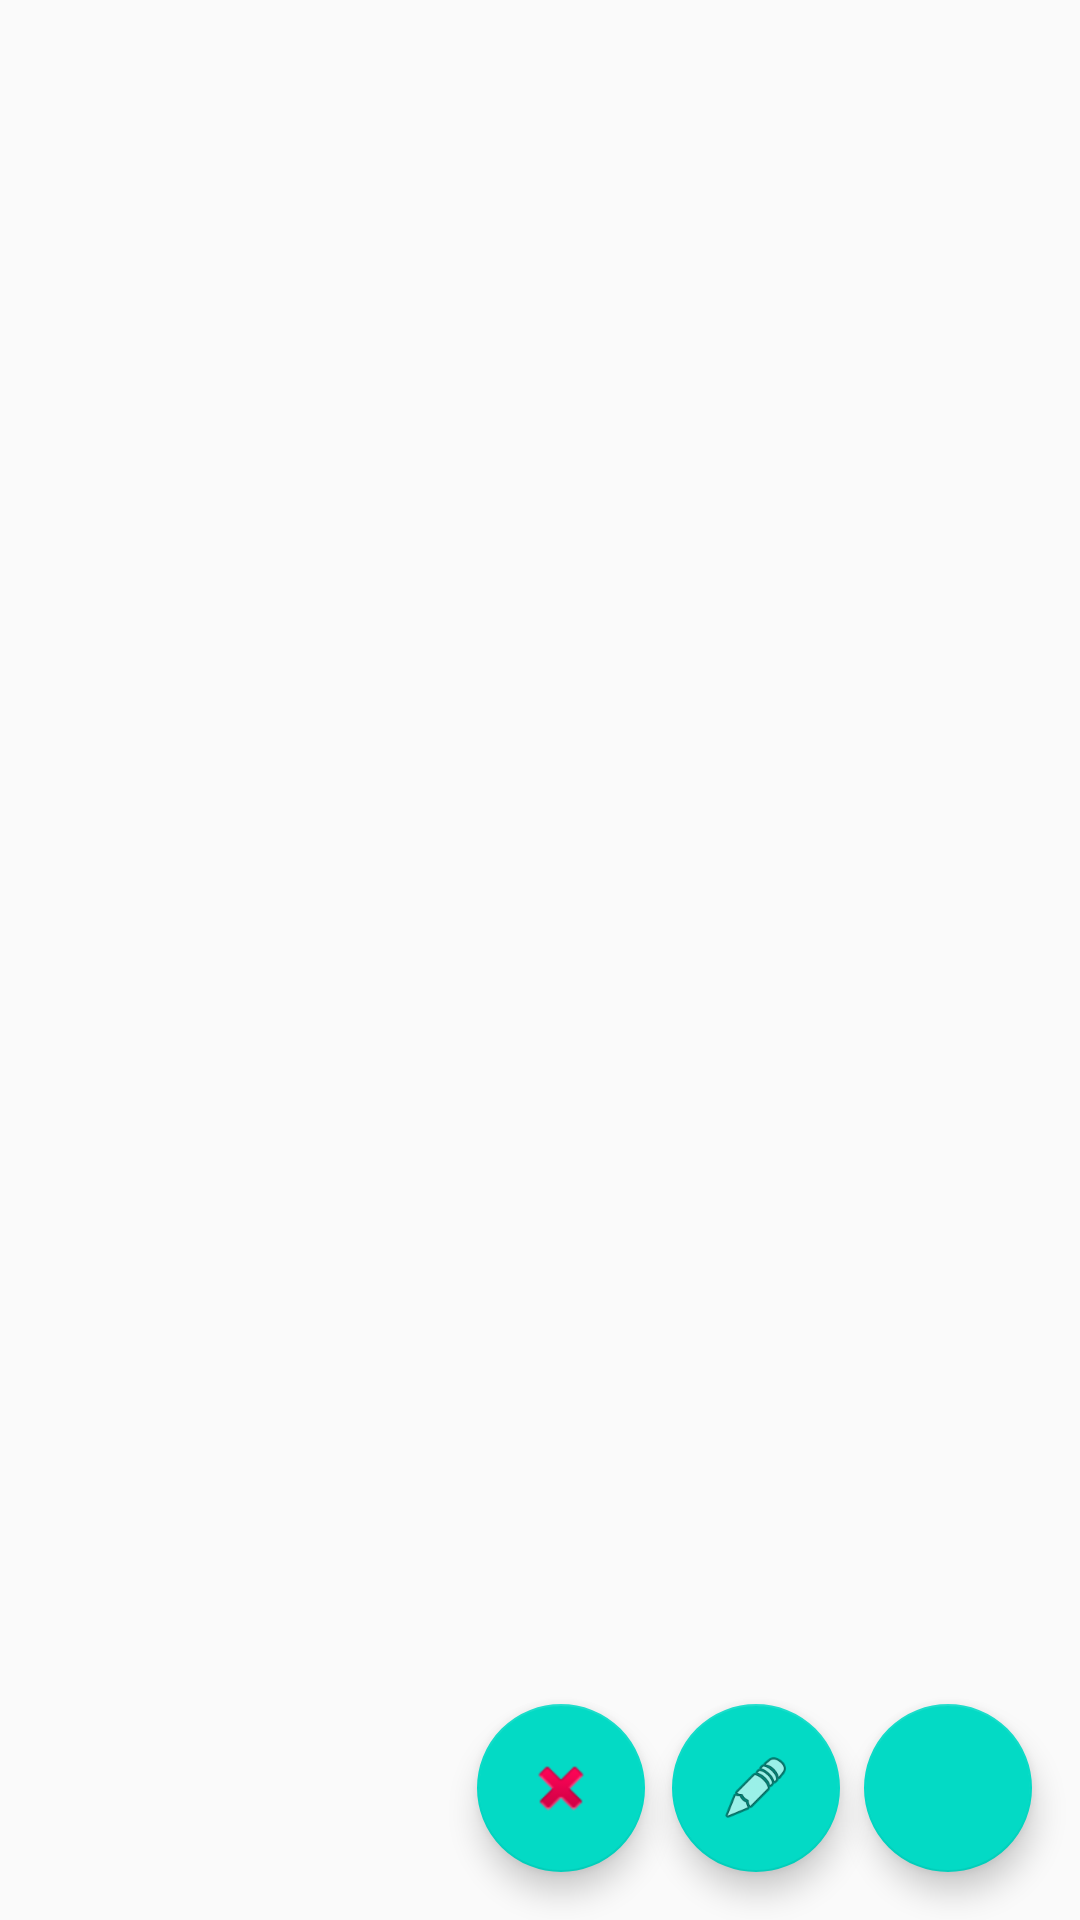

Named icons in this screenshot (1080x1920) and their bounding boxes, (x1, y1, x2, y2):
delete: (477, 1704, 645, 1872)
edit: (672, 1704, 840, 1872)
